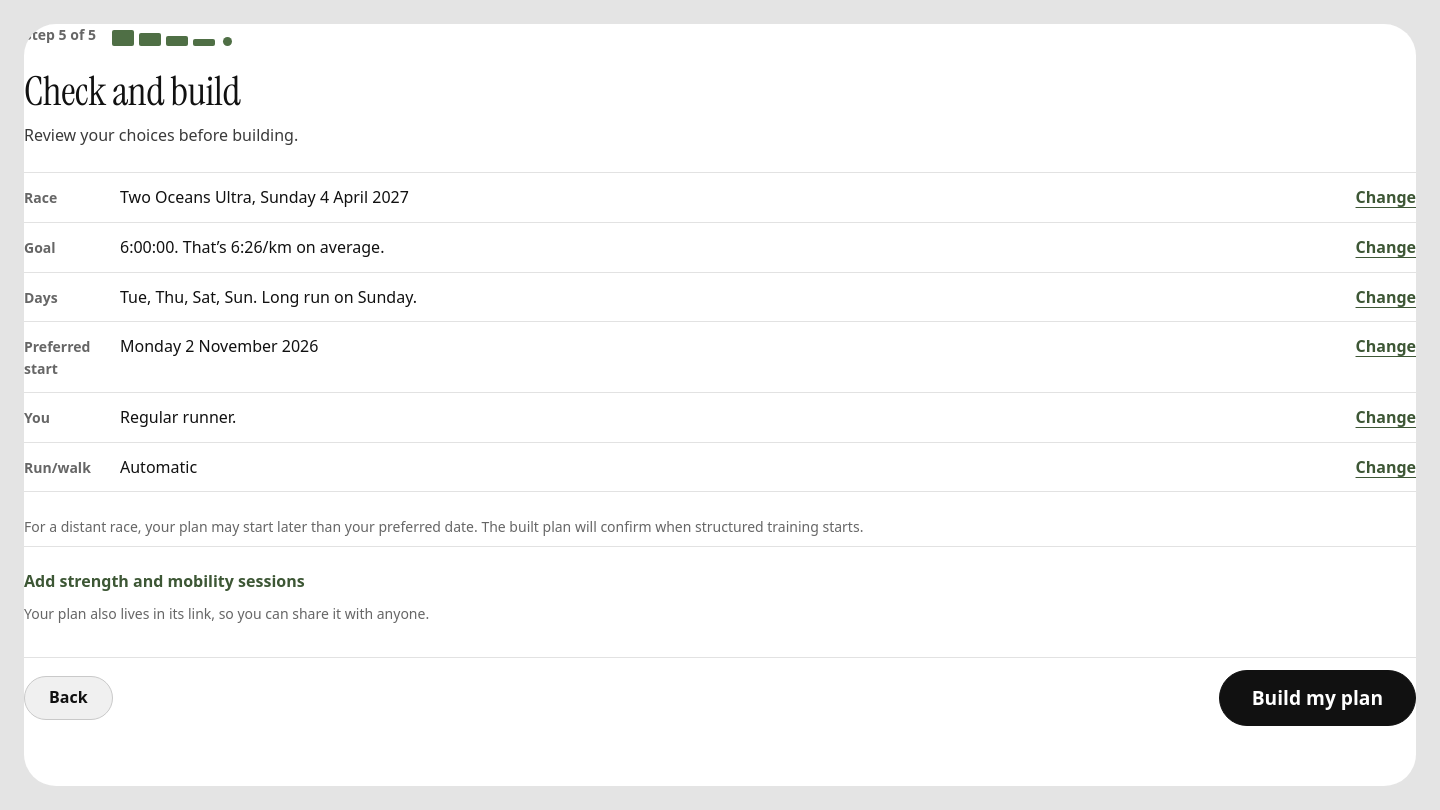
Test: strength days alongside an existing running plan › explains and disables the long-run day rather than silently accepting work the generator omits
Click the heading "Add strength and mobility sessions" at (164, 581), box [24, 570, 305, 592]
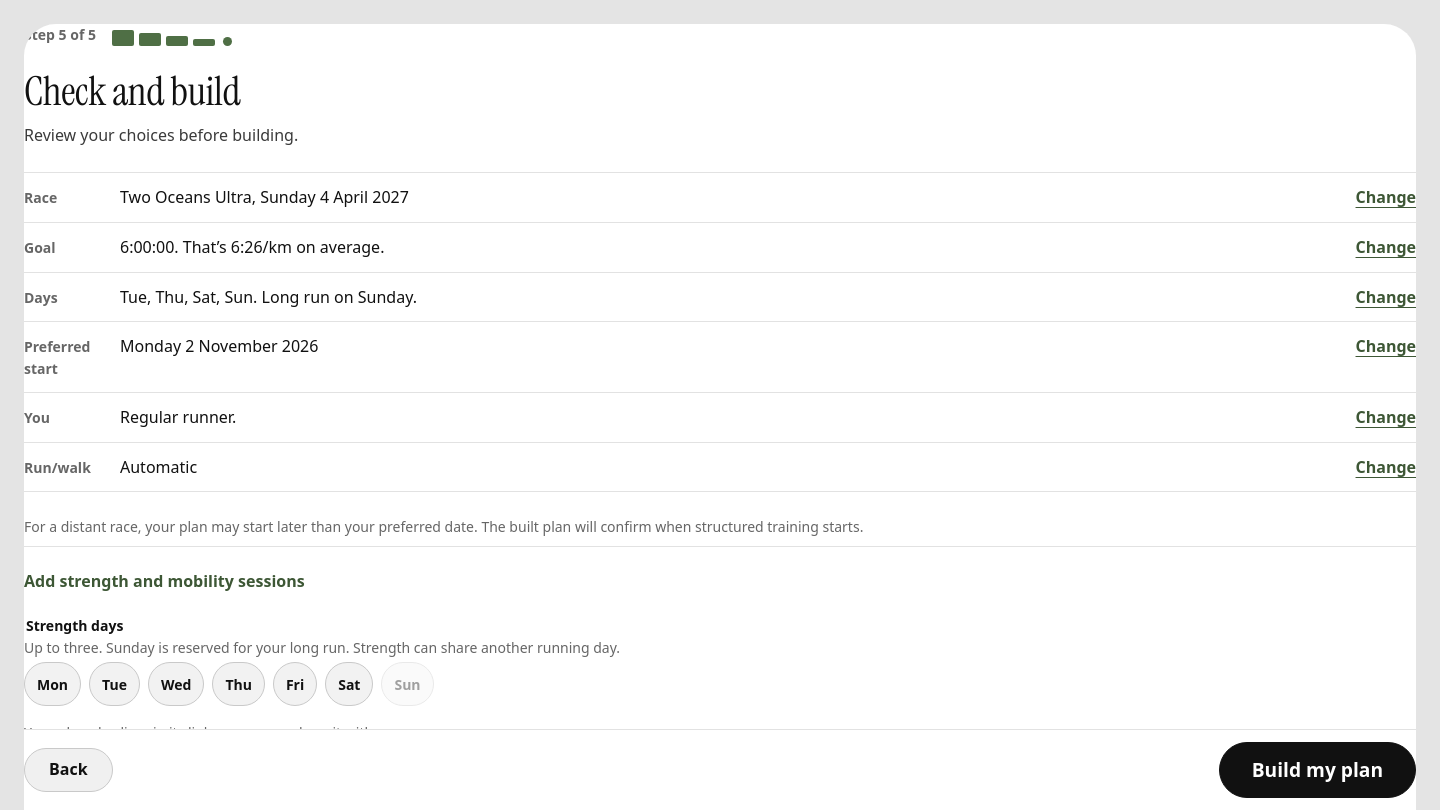
Now the checkbox named "Sunday" is disabled, box [382, 662, 434, 706]
Now the checkbox named "Monday" is enabled, box [24, 662, 81, 706]
Now the text "Sunday is reserved for your long run" is shown, box [24, 638, 620, 657]
